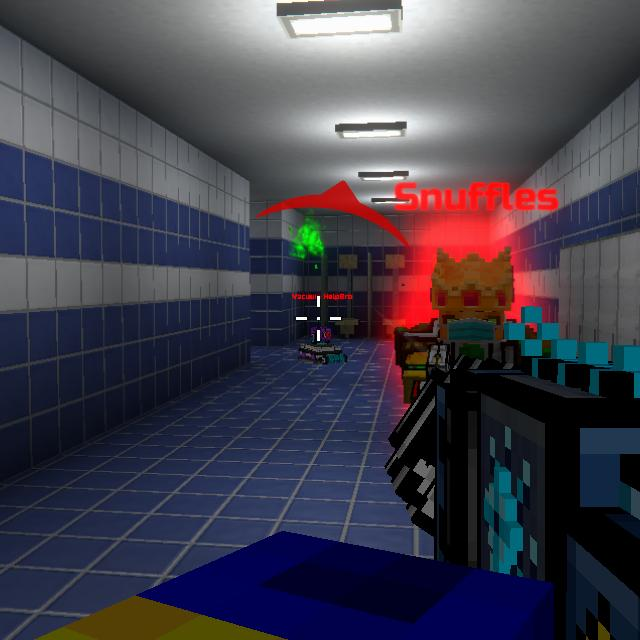Enemy: (393, 261, 552, 404)
